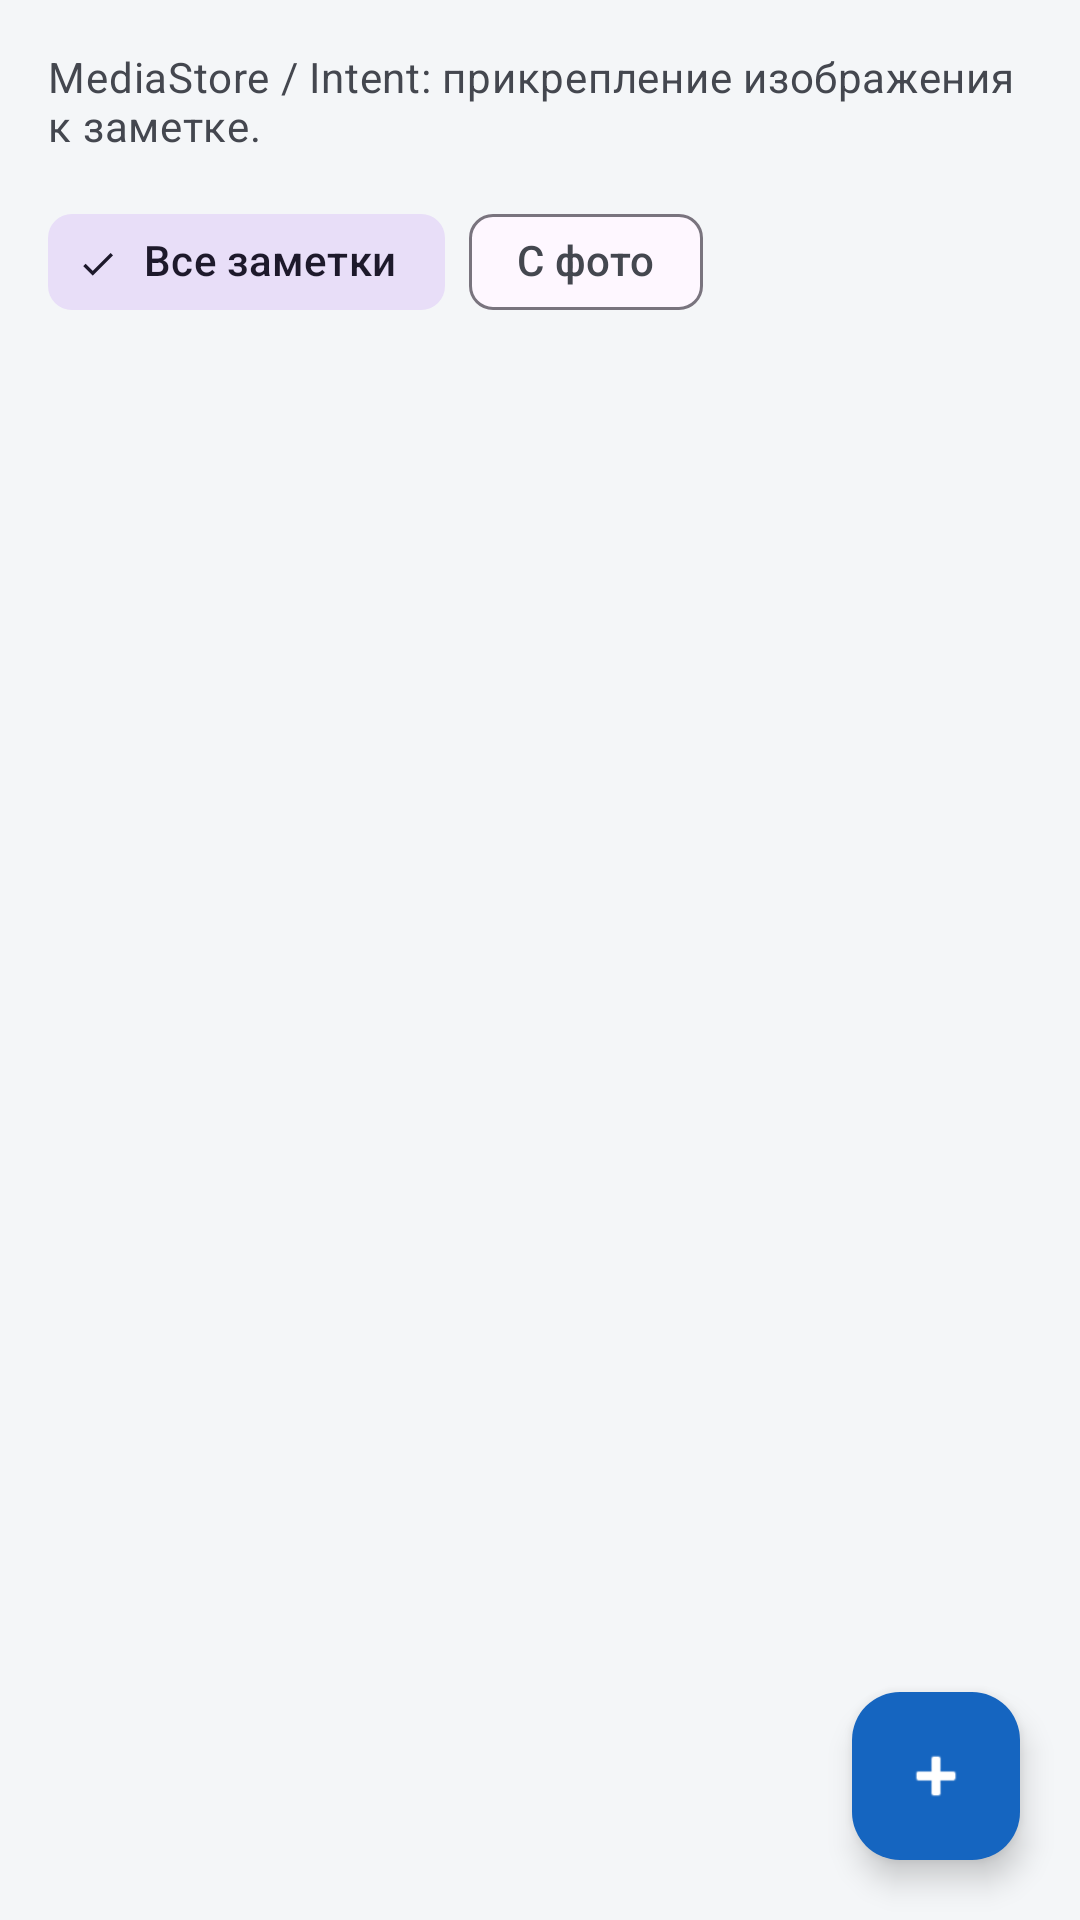

Icon bounding boxes for this 1080*1920 phone screenshot, format rect(x1, y1, x2, y2):
Новая заметка: rect(852, 1692, 1020, 1860)
